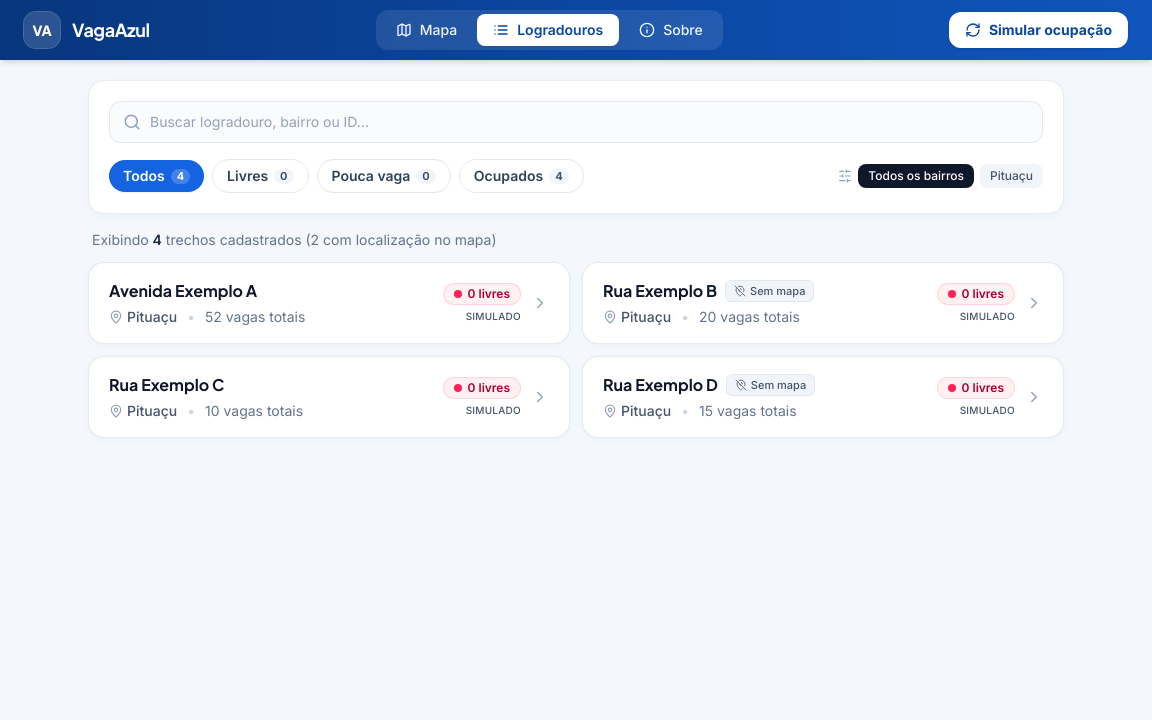
Test: Navegação e listagem › Simulação coletiva de ocupação › atualiza a ocupação exibida após a simulação
Earlier steps of the test are not shown.
Click the heading "Avenida Exemplo A" at (183, 291), box 109,279 -> 257,303
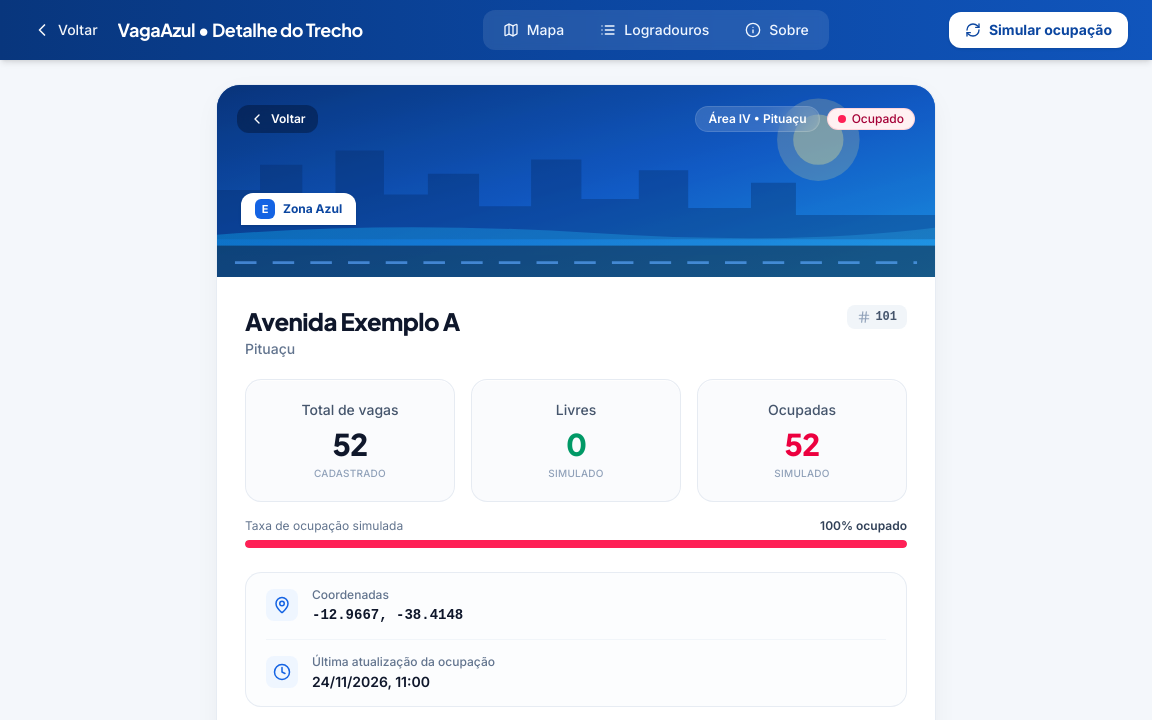
Expected: the element with test id "stat-total" shows "52", 333,425 -> 367,463
Expected: the element with test id "stat-ocupadas" shows "52", 785,425 -> 819,463
Expected: the element with test id "stat-livres" shows "0", 566,425 -> 586,463
